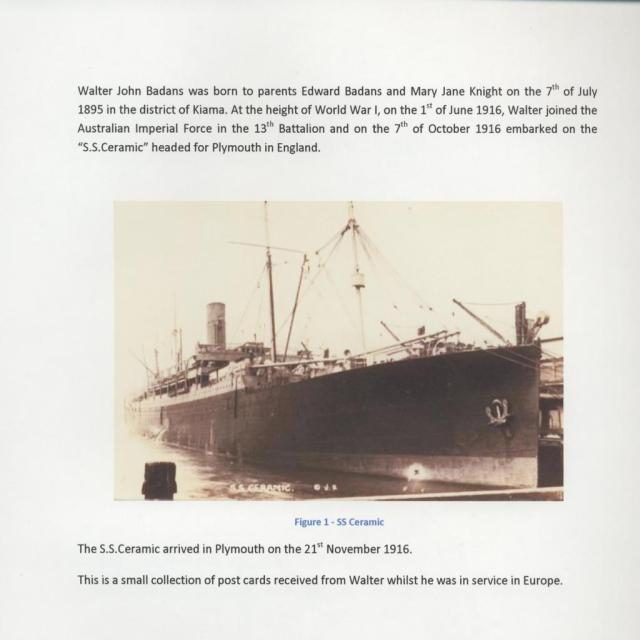Boat: (127, 210, 568, 506)
